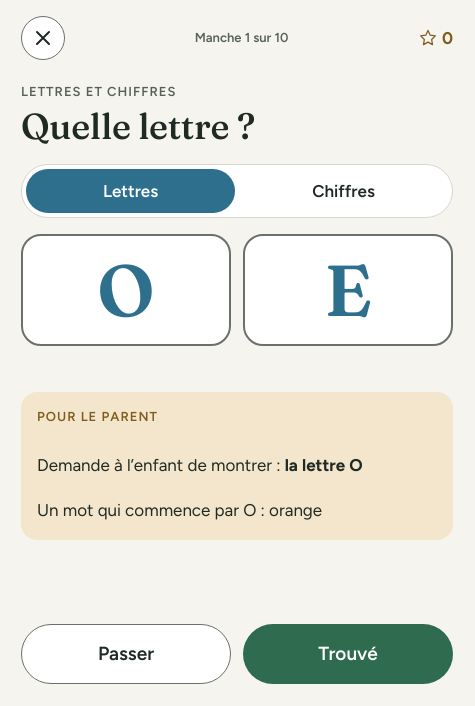
Test: Répondre en montrant, en jeu › lettres : Petits, 2 choix ; un mauvais choix ne fait rien, le bon est mis en valeur
Step 1. Click the button "E" → (348, 290), box [243,234,453,346]
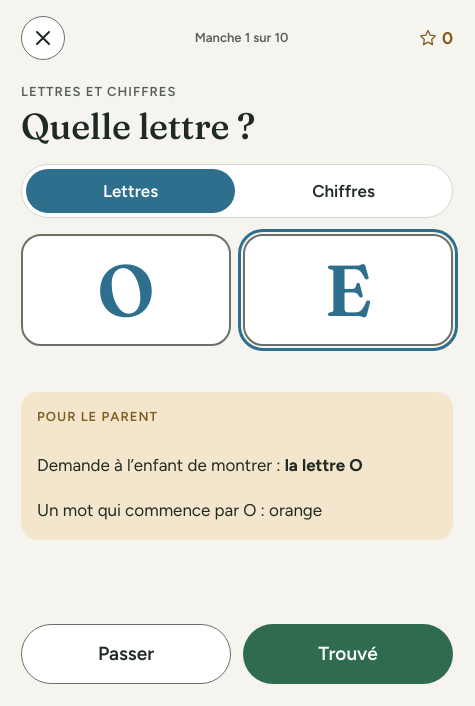
Step 2. Click the button "O" → (126, 290), box [21,234,231,346]
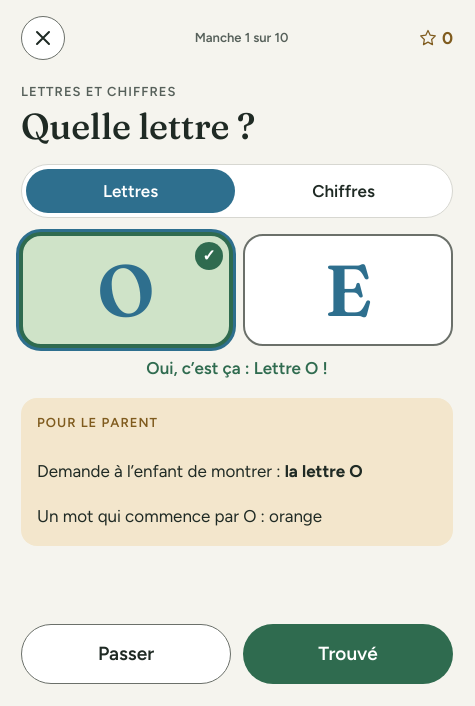
Le parent garde la main : Trouvé fait passer à la manche suivante.
Step 3. Click the button "Trouvé" → (348, 654), box [243,624,453,684]
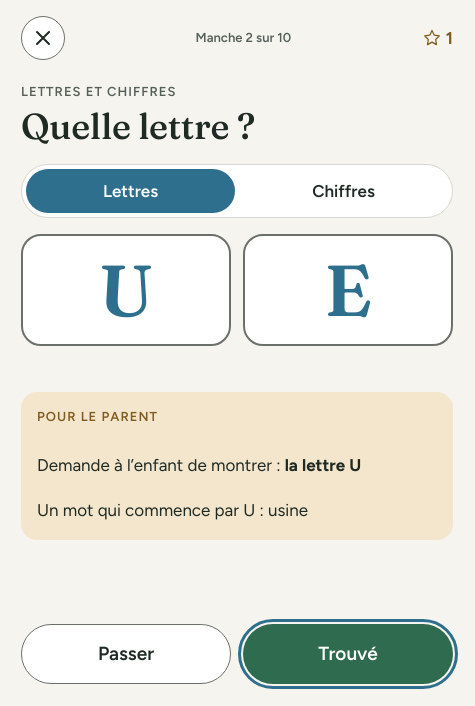
Check: the text "Manche 2 sur 10" is shown, box [196,29,291,47]
